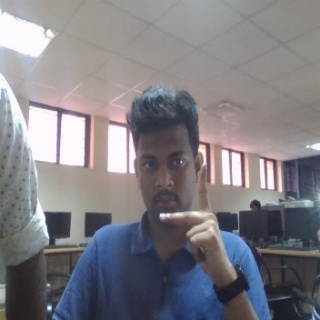Okay: (158, 162, 234, 281)
